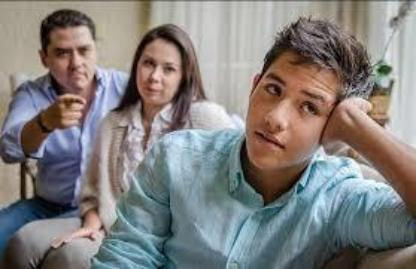person: (125, 16, 415, 269), (78, 21, 231, 256), (0, 4, 126, 214)
